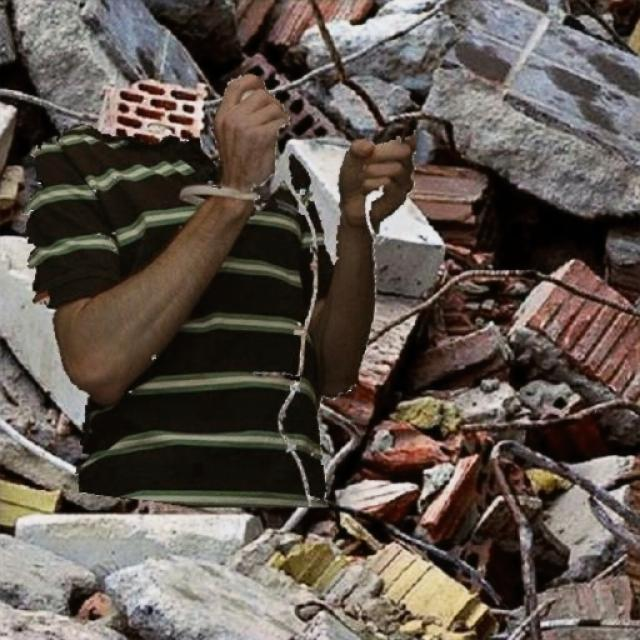Person in Rubble: (21, 72, 415, 506)
